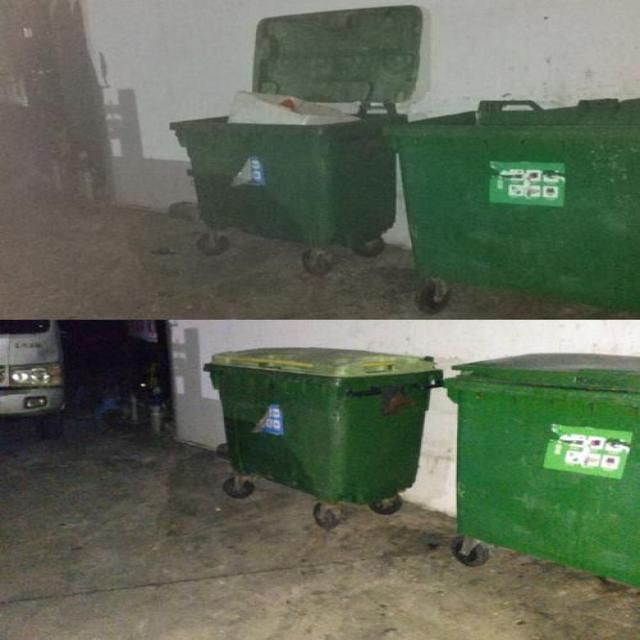garbage_bin: (381, 96, 639, 310), (438, 352, 638, 588), (202, 346, 443, 502)
overflow: (166, 88, 404, 244)
